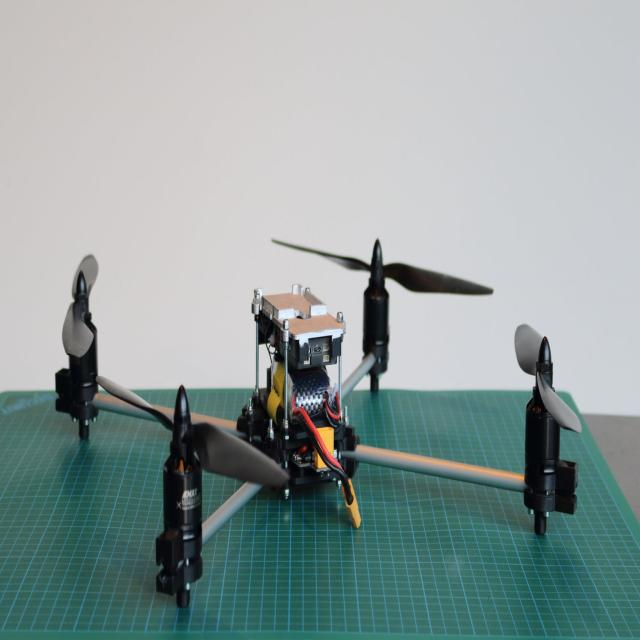drone: (41, 202, 603, 612)
